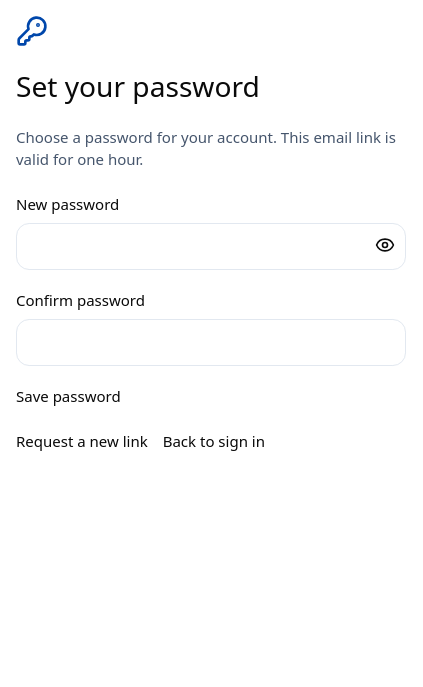
preserves the form on temporary errors so the same request can be retried
The width and height of the screenshot is (423, 687).
In the password field labelled "New password": [211, 247] box [16,223,406,270], type "Example-password1!"
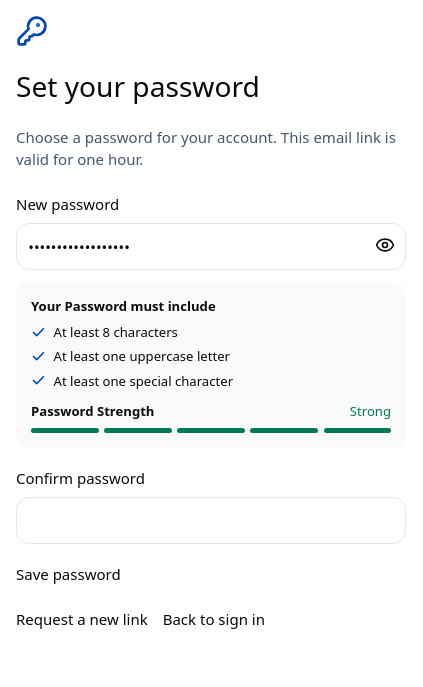
In the password field labelled "Confirm password": [211, 521] box [16,497,406,544], type "Example-password1!"
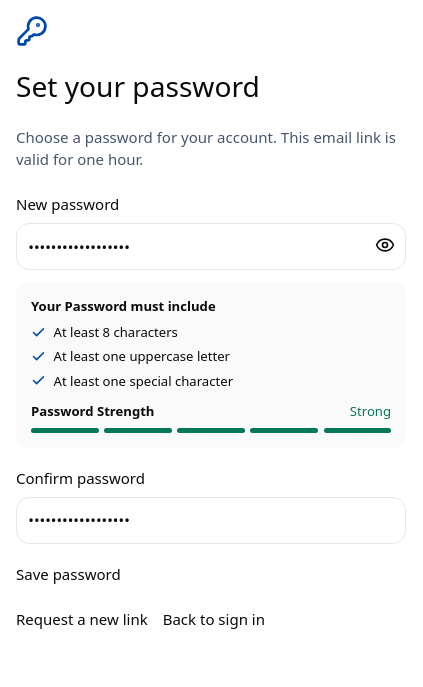
Click the button "Save password": [68, 574] box [16,563,121,585]
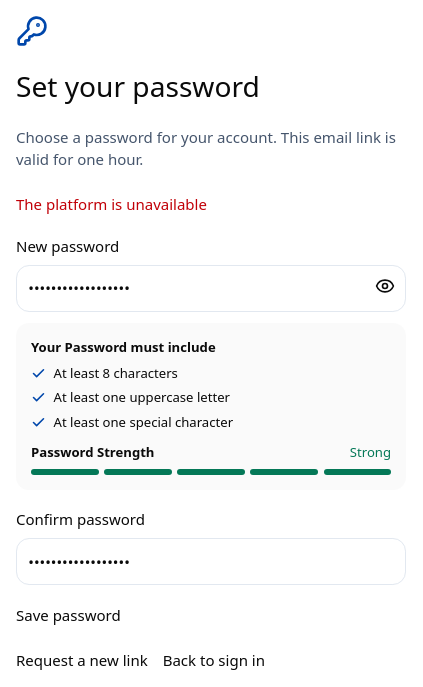
expect the message reads "The platform is unavailable": met, box [16,194,207,214]
